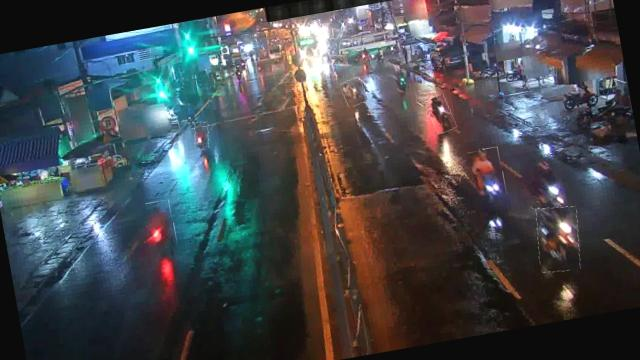Bike: (531, 203, 585, 274), (524, 153, 570, 222), (467, 146, 506, 200), (146, 200, 177, 248), (426, 93, 456, 135), (339, 76, 367, 108), (192, 121, 212, 151), (396, 68, 408, 94)
